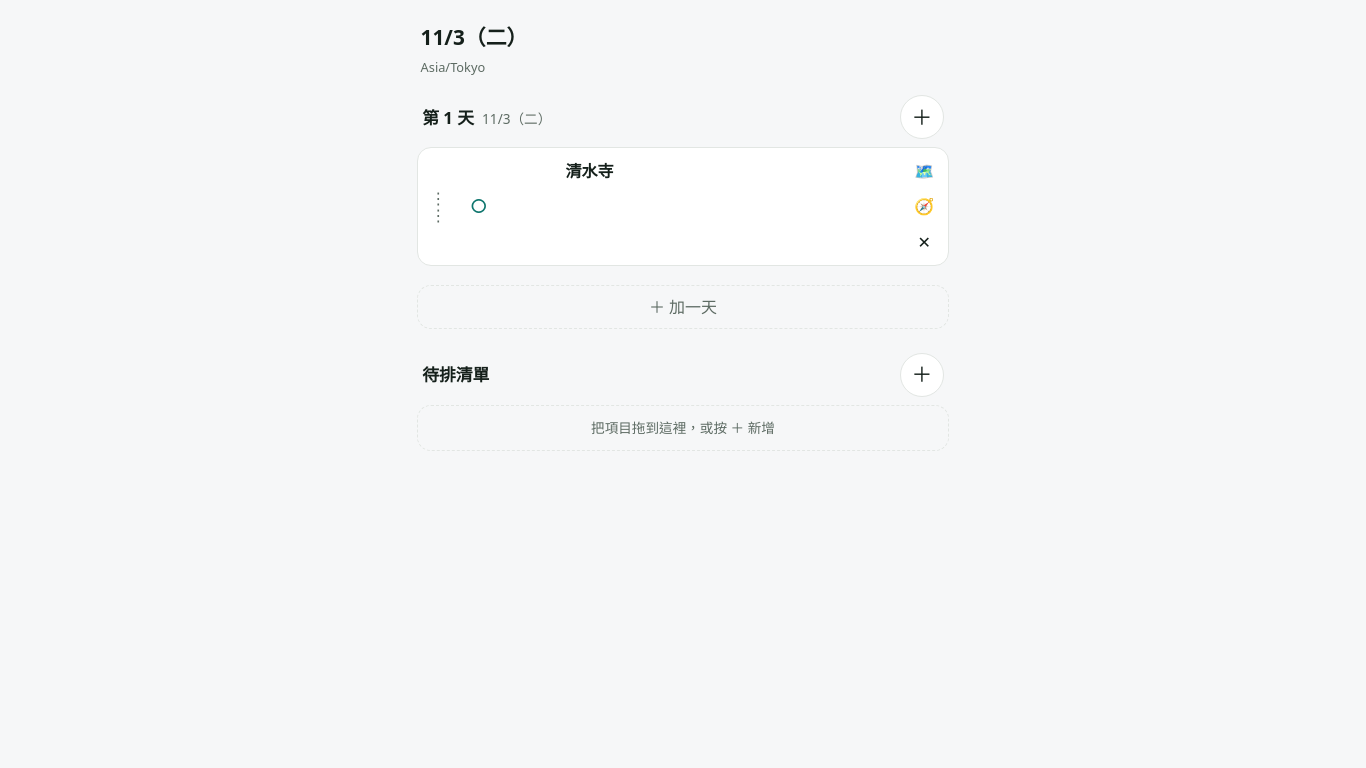
TripPage (M2) › mapUrl 填 javascript: 時顯示錯誤訊息
Click the button with aria-label "編輯 清水寺" at (590,171), box 505,154 -> 903,259
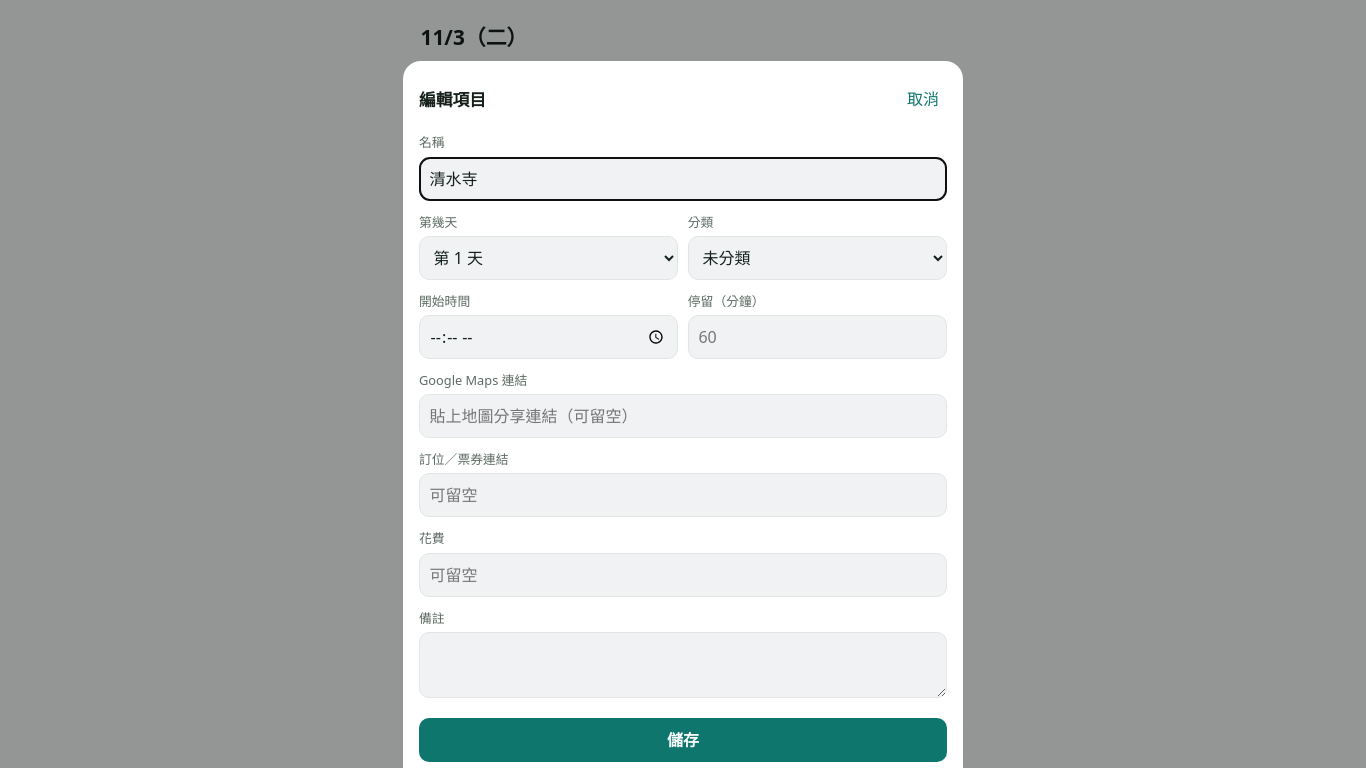
Type "javascript:alert(1)" into the field with placeholder "貼上地圖分享連結（可留空）" at (683,416), box 419,394 -> 947,438
(page scrolled)
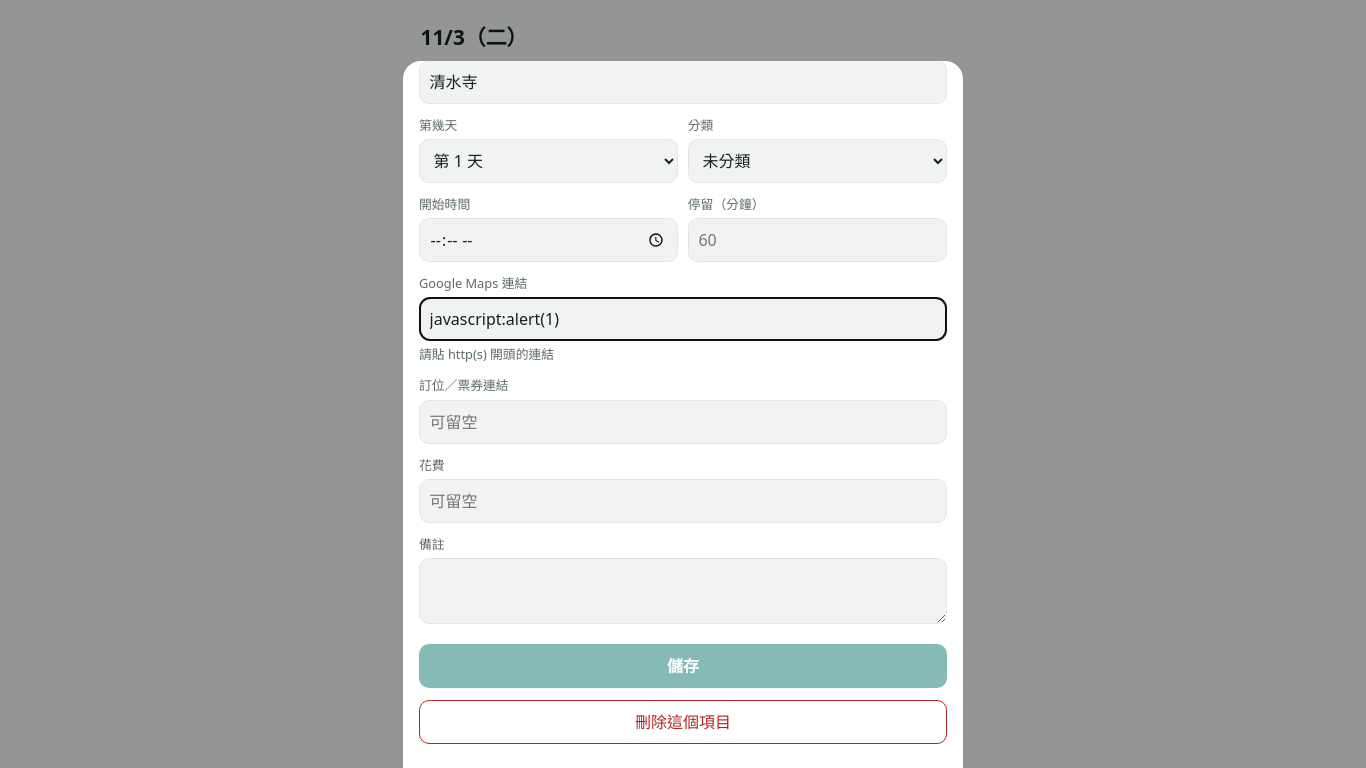
Result: the text "請貼 http(s) 開頭的連結" is shown at 419,345 -> 554,363
Result: the button "儲存" is disabled at 419,644 -> 947,688
